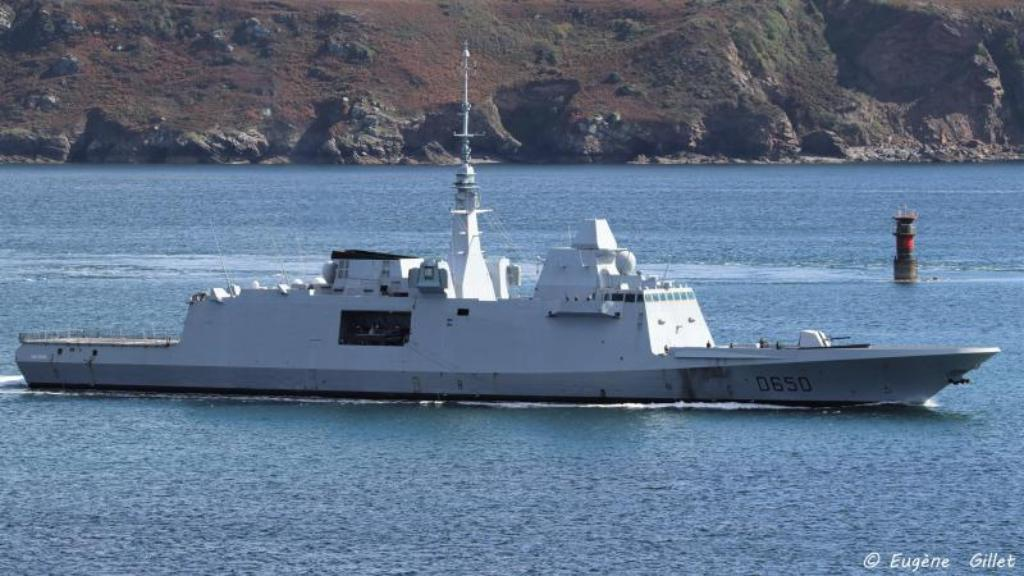Warship: (13, 40, 1007, 412)
